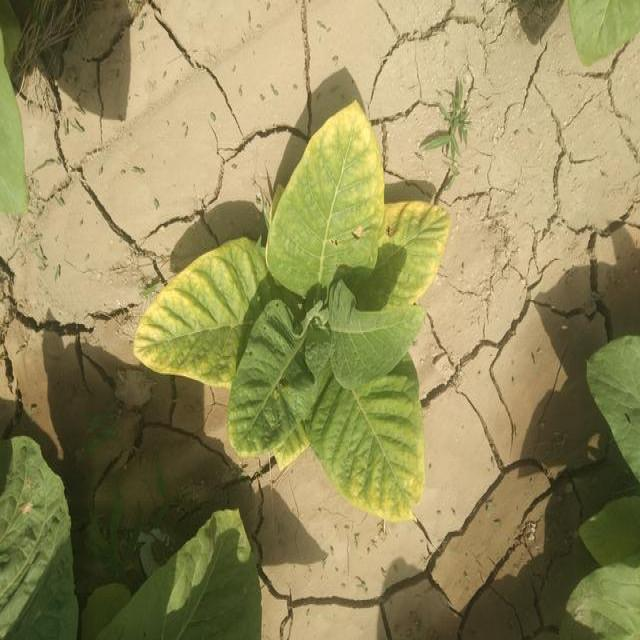crop: (154, 134, 470, 504), (0, 426, 91, 628), (149, 505, 268, 640), (588, 471, 640, 640), (597, 330, 640, 447), (570, 0, 640, 64)
